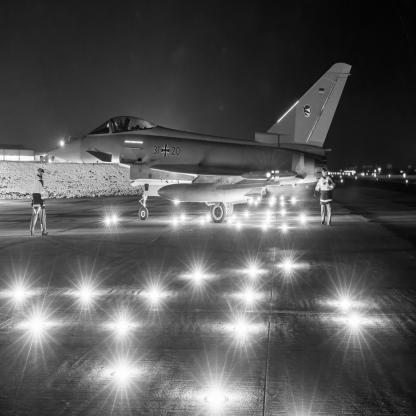EF2000: (47, 64, 353, 225)
